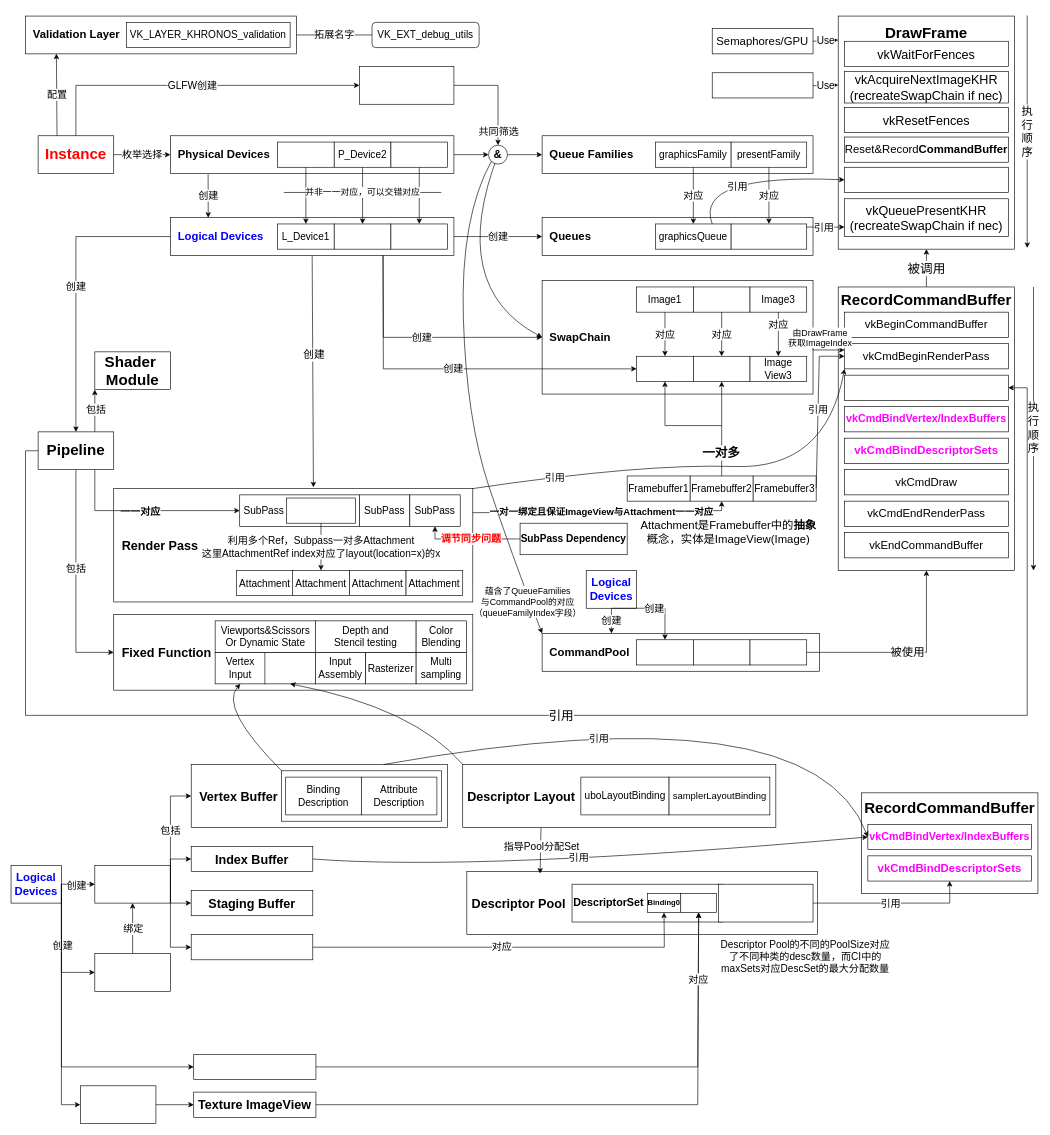
This 1050x1135 diagram has some shape labels left out. Here are the shapes that lost their labels. From the top down, the centre of each, then its label:
point 406,85: WindowSurface
point 762,85: Fences/CPU&GPU
point 305,154: P_Device1
point 419,154: P_Device3
point 926,179: vkQueueSubmit
point 362,236: L_Device2
point 419,236: L_Device3
point 768,236: presentQueue
point 721,299: Image2
point 664,368: Image View1
point 721,368: Image View2
point 926,387: vkCmdBindPipeline
point 321,510: AttachmentRef
point 289,668: Pipeline Layout
point 664,652: command buffer1
point 721,652: command buffer2
point 778,652: command buffer3
point 132,884: Buffers
point 698,903: Binding1
point 765,903: Descriptor Set
point 252,947: Uniform Buffer
point 132,972: Device Memory
point 254,1067: Texture Sampler
point 118,1104: ImageView
